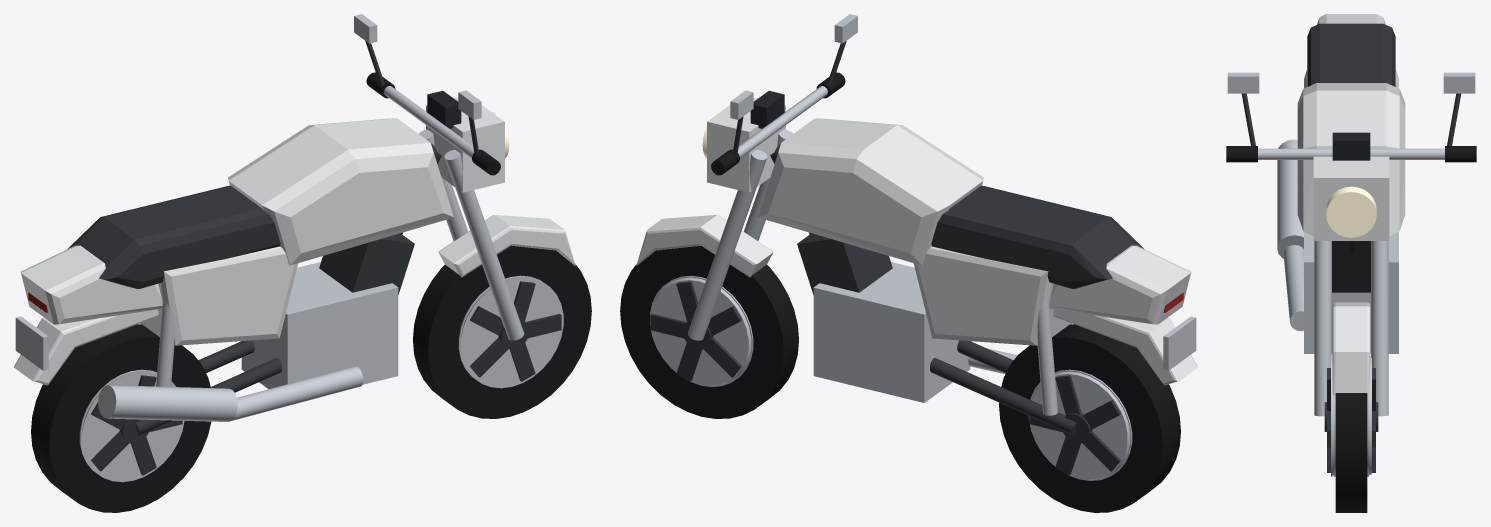
The model's file is MOTORBIKE.glb.
The picture shows the model from 3 angles, left to right: view 1: azimuth 30°, elevation 25°; view 2: azimuth 150°, elevation 25°; view 3: azimuth 270°, elevation 25°; orthographic projection. The views are drawn at different scales.
Visible parts, largest first — view 1: tire (×2), fuel_tank, seat, engine, side_panel, rim_face (×2), tail_panel, silencer, front_fork (×2), front_mudguard, engine_cylinder, rear_mudguard (+8 smaller); view 2: tire (×2), fuel_tank, engine, seat, side_panel, rim_face (×2), tail_panel, front_fork (×2), front_mudguard, engine_cylinder, rear_mudguard, headlight_cowl (+6 smaller); view 3: fuel_tank, front_fork (×2), seat, headlight_cowl, tire, front_mudguard, engine, silencer, headlight, engine_cylinder, handlebar, exhaust_pipe (+7 smaller).
Boxes of the visible parts, x1=… form: tire (×2): x1=31, y1=245, x2=591, y2=512; fuel_tank: x1=228, y1=118, x2=453, y2=265; seat: x1=68, y1=185, x2=280, y2=288; engine: x1=241, y1=262, x2=398, y2=389; side_panel: x1=140, y1=246, x2=298, y2=345; rim_face (×2): x1=81, y1=277, x2=563, y2=482; tail_panel: x1=20, y1=245, x2=162, y2=324; silencer: x1=98, y1=385, x2=237, y2=421; front_fork (×2): x1=418, y1=129, x2=524, y2=340; front_mudguard: x1=438, y1=215, x2=575, y2=277; engine_cylinder: x1=319, y1=234, x2=414, y2=294; rear_mudguard: x1=14, y1=309, x2=158, y2=385; tire (×2): x1=620, y1=245, x2=1180, y2=512; fuel_tank: x1=758, y1=118, x2=983, y2=265; engine: x1=813, y1=262, x2=970, y2=402; seat: x1=931, y1=185, x2=1143, y2=288; side_panel: x1=913, y1=246, x2=1071, y2=345; rim_face (×2): x1=651, y1=277, x2=1130, y2=479; tail_panel: x1=1049, y1=245, x2=1191, y2=324; front_fork (×2): x1=687, y1=129, x2=793, y2=340; front_mudguard: x1=636, y1=215, x2=773, y2=277; engine_cylinder: x1=797, y1=234, x2=892, y2=294; rear_mudguard: x1=1053, y1=309, x2=1197, y2=385; headlight_cowl: x1=707, y1=97, x2=785, y2=192; fuel_tank: x1=1297, y1=83, x2=1405, y2=236; front_fork (×2): x1=1314, y1=241, x2=1388, y2=416; seat: x1=1307, y1=23, x2=1395, y2=86; headlight_cowl: x1=1313, y1=156, x2=1389, y2=240; tire: x1=1335, y1=393, x2=1367, y2=512; front_mudguard: x1=1332, y1=302, x2=1370, y2=396; engine: x1=1304, y1=232, x2=1398, y2=353; silencer: x1=1277, y1=139, x2=1303, y2=258; headlight: x1=1326, y1=186, x2=1376, y2=237; engine_cylinder: x1=1332, y1=241, x2=1370, y2=292; handlebar: x1=1258, y1=148, x2=1444, y2=159; exhaust_pipe: x1=1283, y1=245, x2=1303, y2=331.
Bounding box in the file's own units: 2.12 × 1.35 × 0.792.
